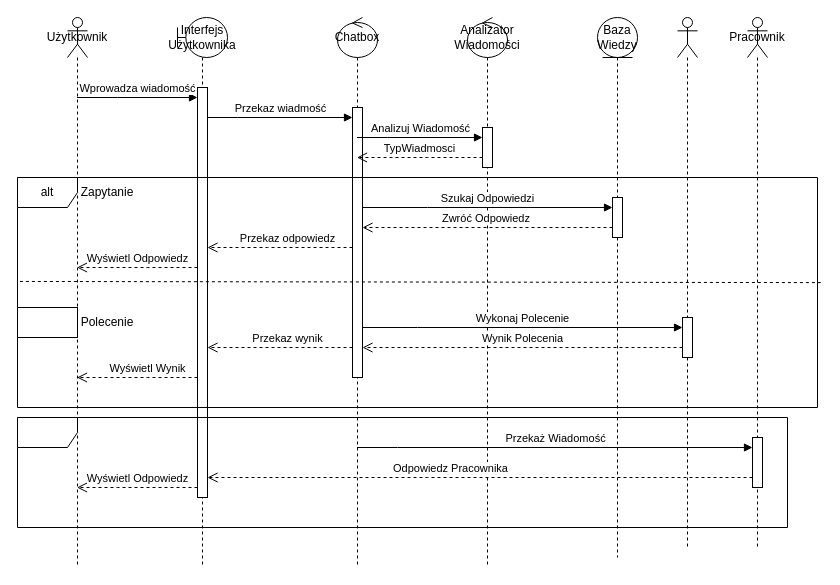
The diagram is 840 pixels wide and 585 high, and some of its shapes have lost their labels. Here are the shapes that lost their labels. From the top down, the box of each, then its label:
(676, 16, 698, 548): Wykonawca polecenia
(16, 306, 78, 338): Else
(16, 416, 788, 528): opt
